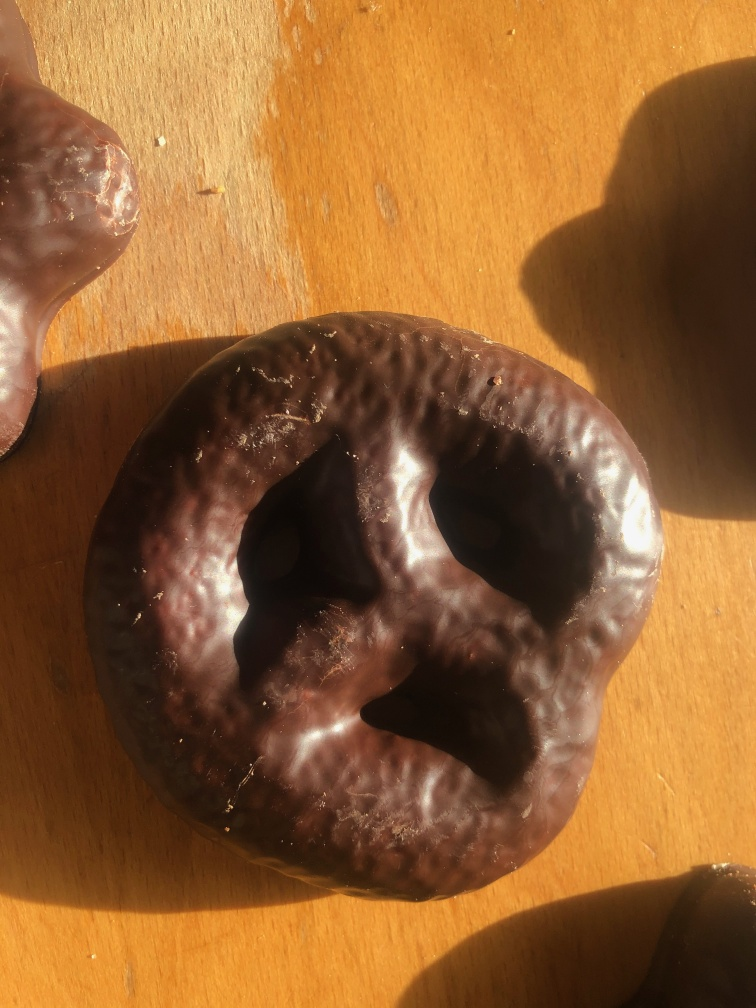bretzel: (77, 304, 667, 915)
